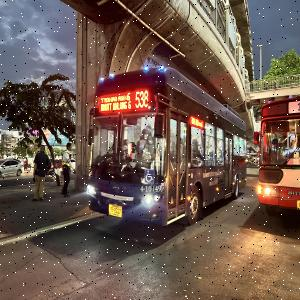BMTA-bus: (256, 90, 300, 213)
Bus Line Number: (133, 89, 150, 109)
Bus Side Number: (137, 183, 163, 195)
Destination Sign: (98, 90, 132, 114)
TSB-Bus: (86, 67, 247, 229)
